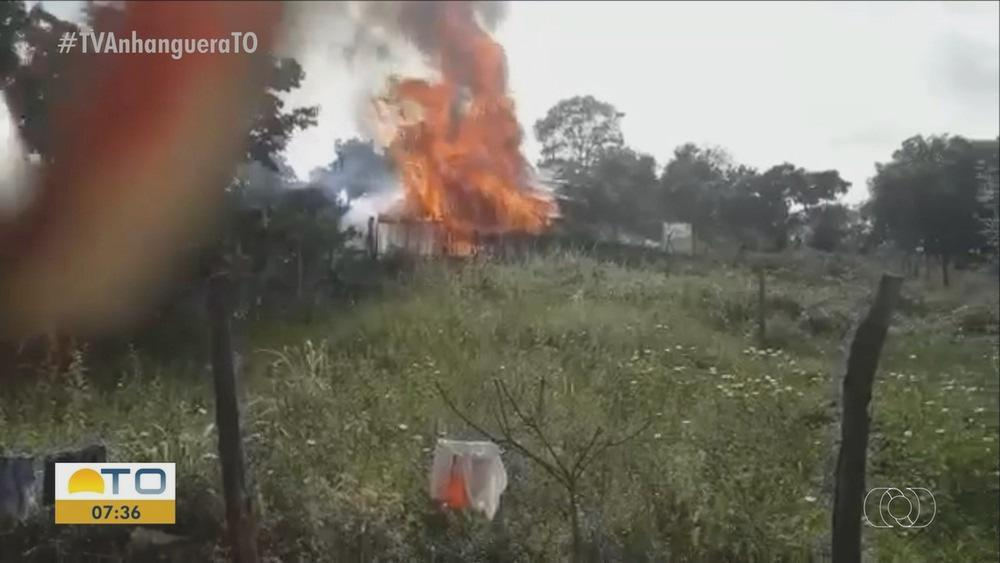Fire: (379, 26, 560, 238)
